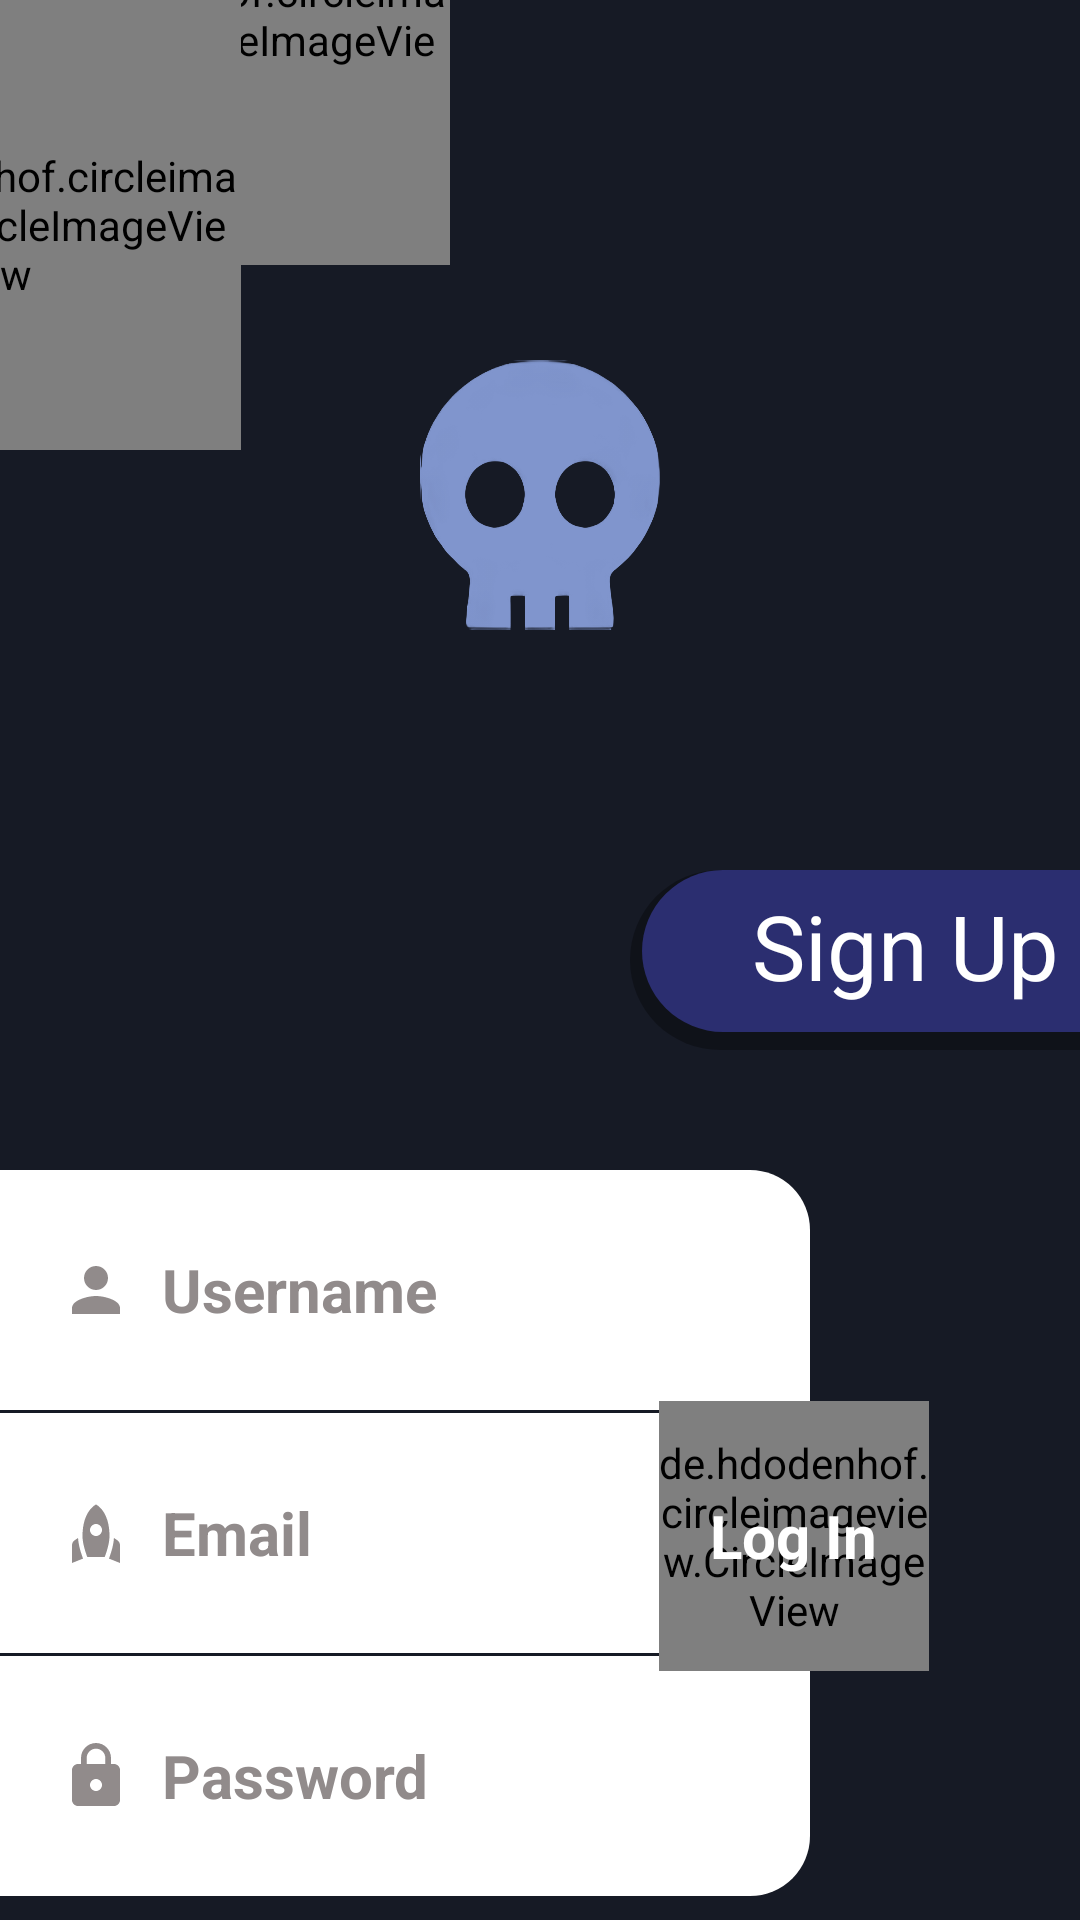

Icon click points for this 1080*1920 phone screenshot, format (x,y):
skull: (540,495)
